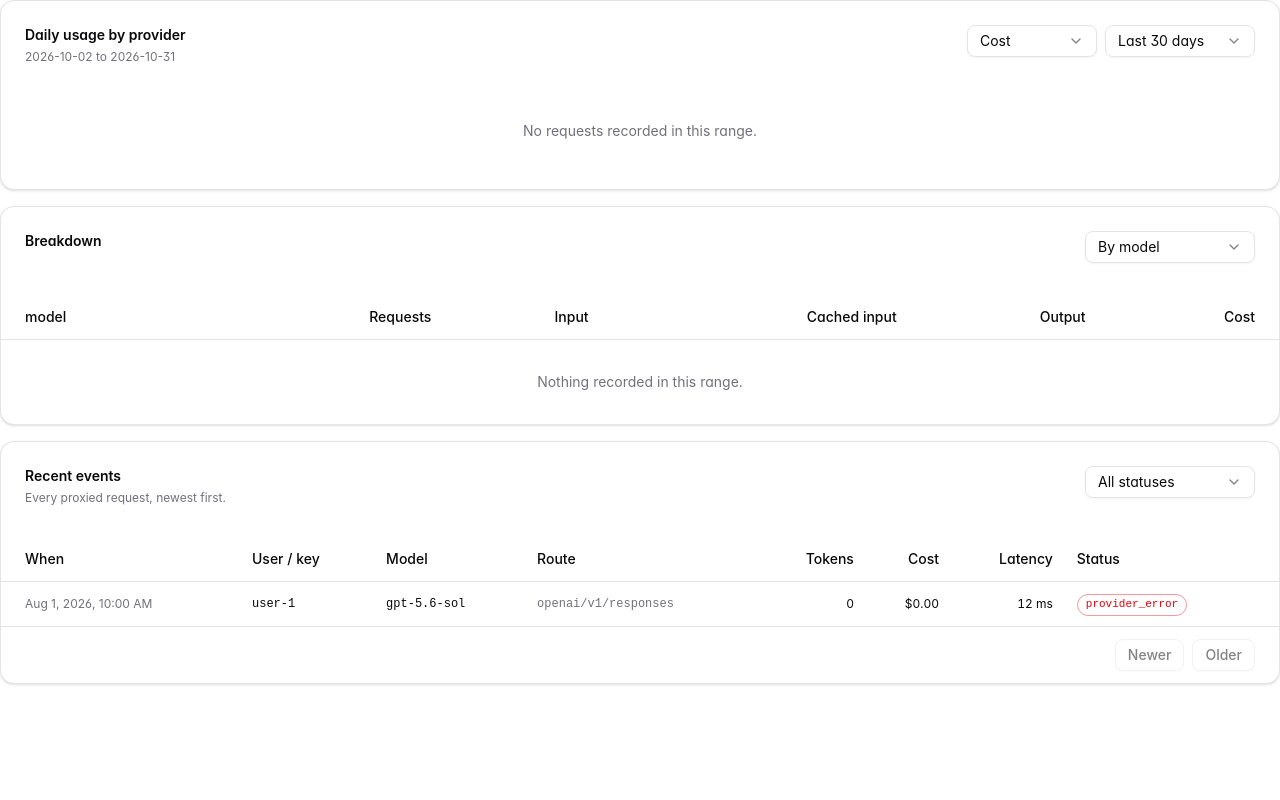
Scenario: UsageTab event statuses › lists only provider attempts as usage statuses
The image size is (1280, 800).
Click the dropdown labelled "All statuses". click: (1170, 482)
box: [1085, 466, 1255, 498]
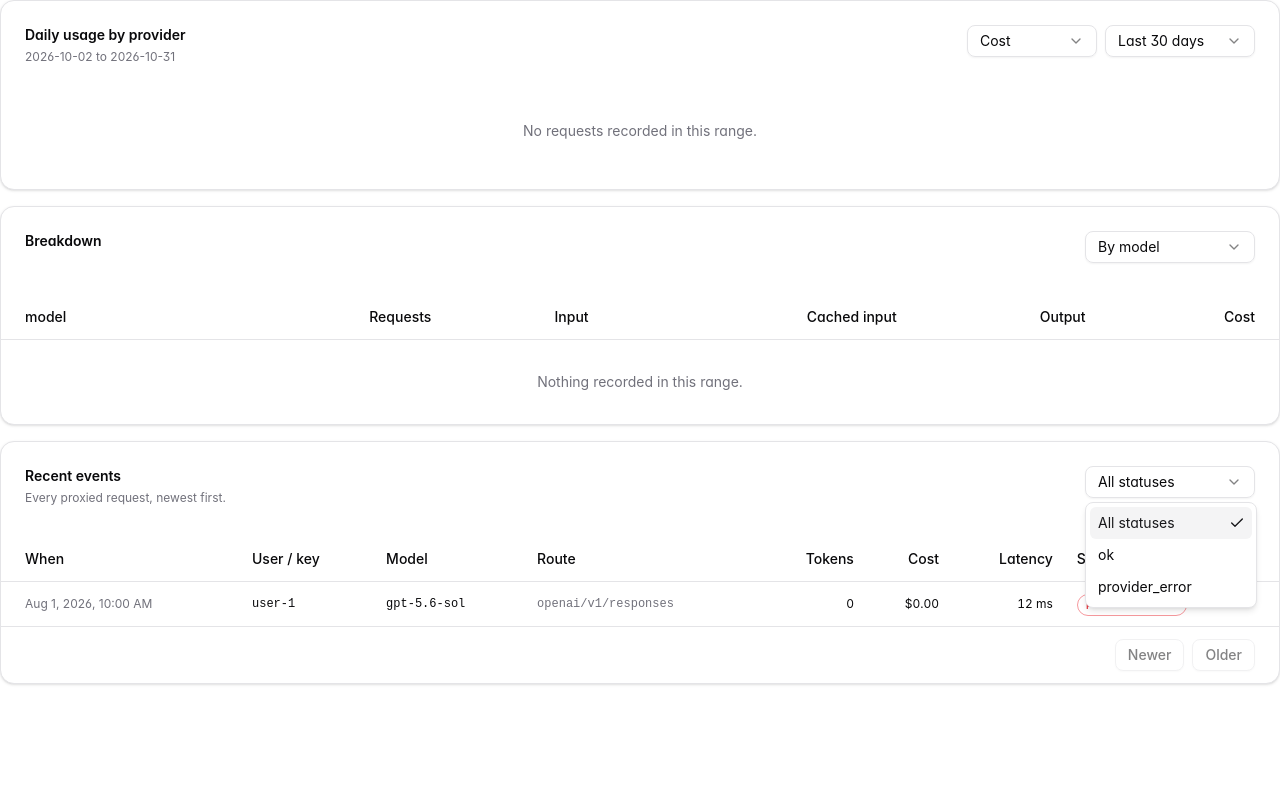
Check: the options read "All statuses", "ok", "provider_error", in this order, box [1090, 507, 1252, 539]; [1098, 546, 1114, 563]; [1098, 578, 1192, 595]
